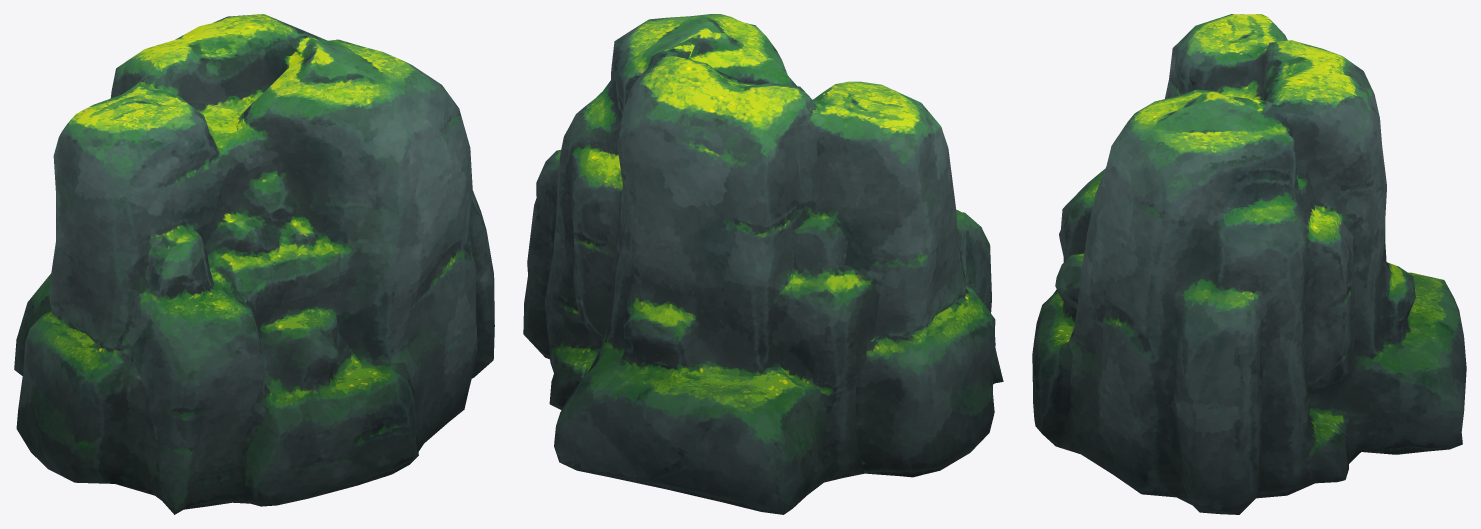
Rendered from Rock03.glb.
3 renders of one model, left to right at view 1: azimuth 30°, elevation 25°; view 2: azimuth 150°, elevation 25°; view 3: azimuth 270°, elevation 25°, orthographic.
Visible parts, largest first — view 1: Object_2; view 2: Object_2; view 3: Object_2.
Part boxes in pixels (box(x1,y1,x2,y2)): Object_2: box(14, 14, 494, 514); Object_2: box(523, 14, 1003, 514); Object_2: box(1032, 14, 1466, 514).
Bounding box in the file's own units: 383 × 296 × 330.
1 material, 1 textured.
